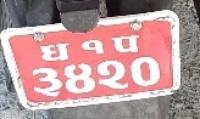1: (80, 37, 105, 57)
2: (96, 59, 130, 92)
3: (30, 66, 64, 100)
4: (63, 61, 96, 96)
9: (129, 55, 163, 88)
gha: (38, 41, 70, 62)
license-plate: (0, 11, 192, 111)
pa: (110, 34, 141, 54)
